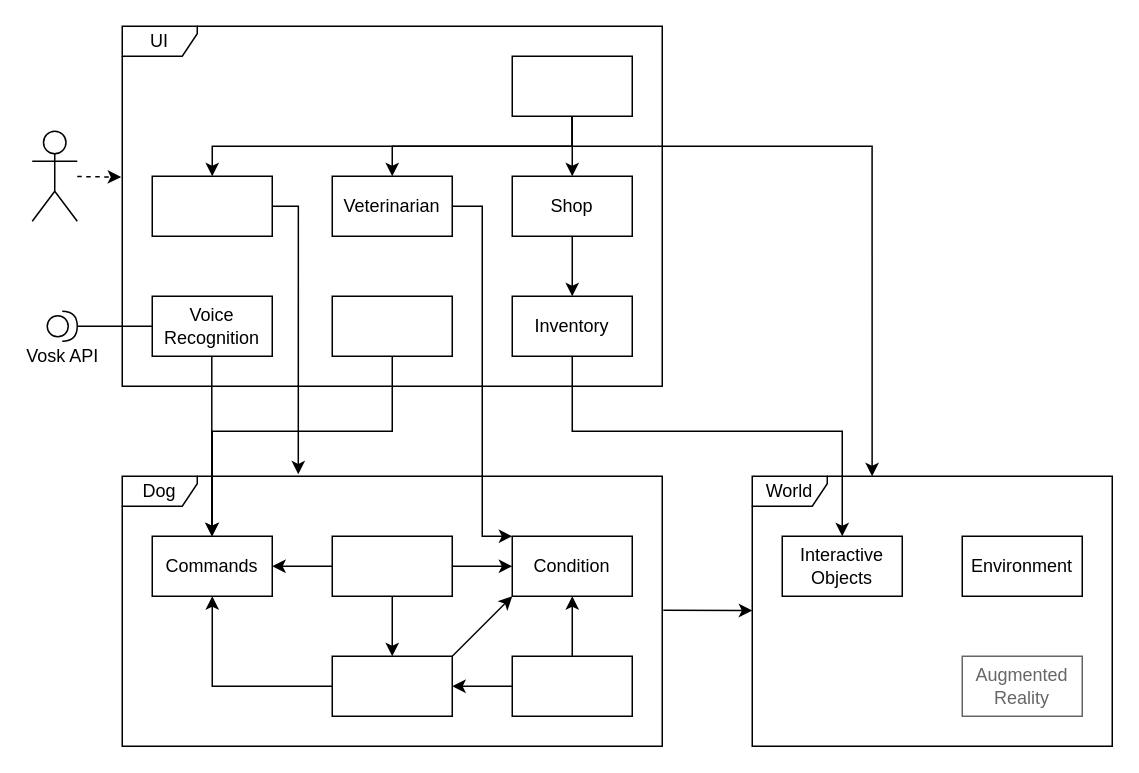
This 1139x773 diagram has some shape labels left out. The shapes that lost their labels are listed below. From the top down, each one's centre as x and y in pixels, then its label:
At [571,85]: "Scene Selection".
At [54,175]: "User".
At [211,205]: "Animal Shelter".
At [391,325]: "Gesture Recognition".
At [391,565]: "Training".
At [391,685]: "Behaviour".
At [571,685]: "Animation".
